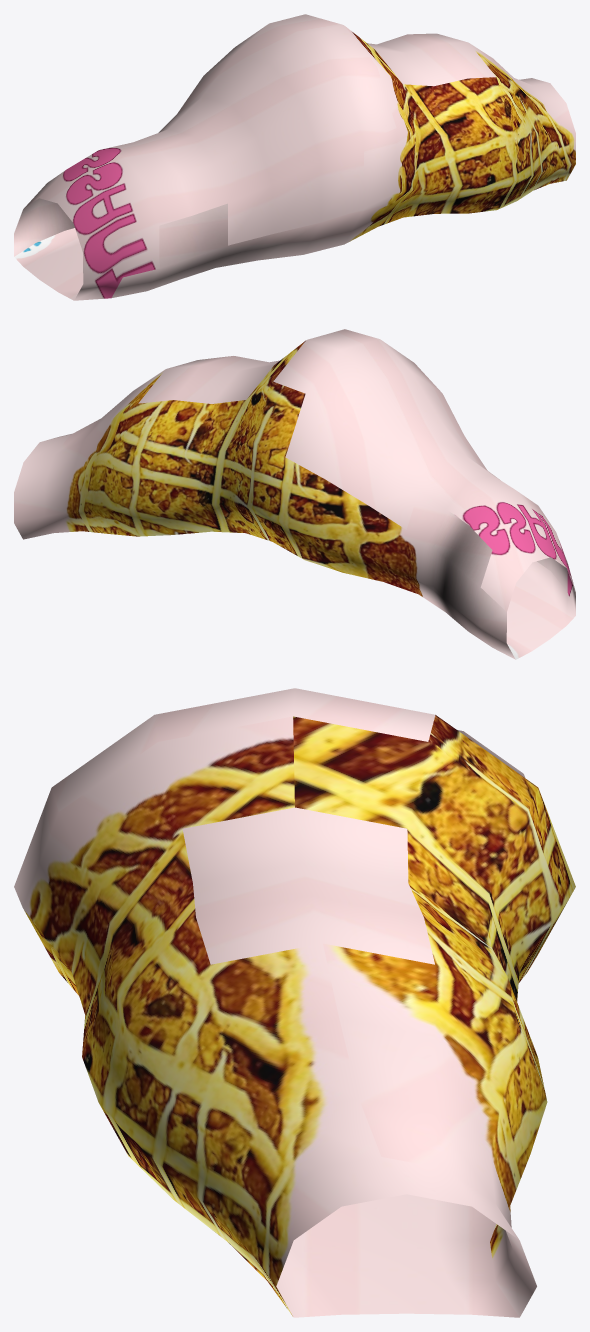
File: prop_pistachio_croissant.glb
3 renders of one model, top to bottom at view 1: azimuth 30°, elevation 25°; view 2: azimuth 150°, elevation 25°; view 3: azimuth 270°, elevation 25°, orthographic. The views are drawn at different scales.
Visible parts, largest first — view 1: prop_pistachio_croissant; view 2: prop_pistachio_croissant; view 3: prop_pistachio_croissant.
Part boxes in pixels (bbox=[...]): prop_pistachio_croissant: bbox=[14, 14, 575, 300]; prop_pistachio_croissant: bbox=[14, 329, 575, 659]; prop_pistachio_croissant: bbox=[14, 688, 575, 1317].
Bounding box in the file's own units: 0.1397 × 0.0549 × 0.0707.
Materials: 1 (1 with a texture image).
